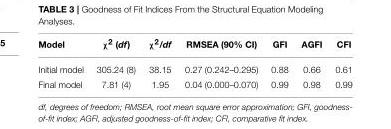table: (37, 37, 351, 89)
table column: (177, 37, 263, 89), (37, 37, 89, 89), (89, 37, 141, 89), (141, 37, 177, 89), (294, 37, 327, 89), (263, 37, 294, 89), (327, 37, 351, 89)
table column header: (37, 37, 351, 56)
table row: (37, 56, 351, 77), (37, 37, 351, 56), (37, 77, 351, 89)
